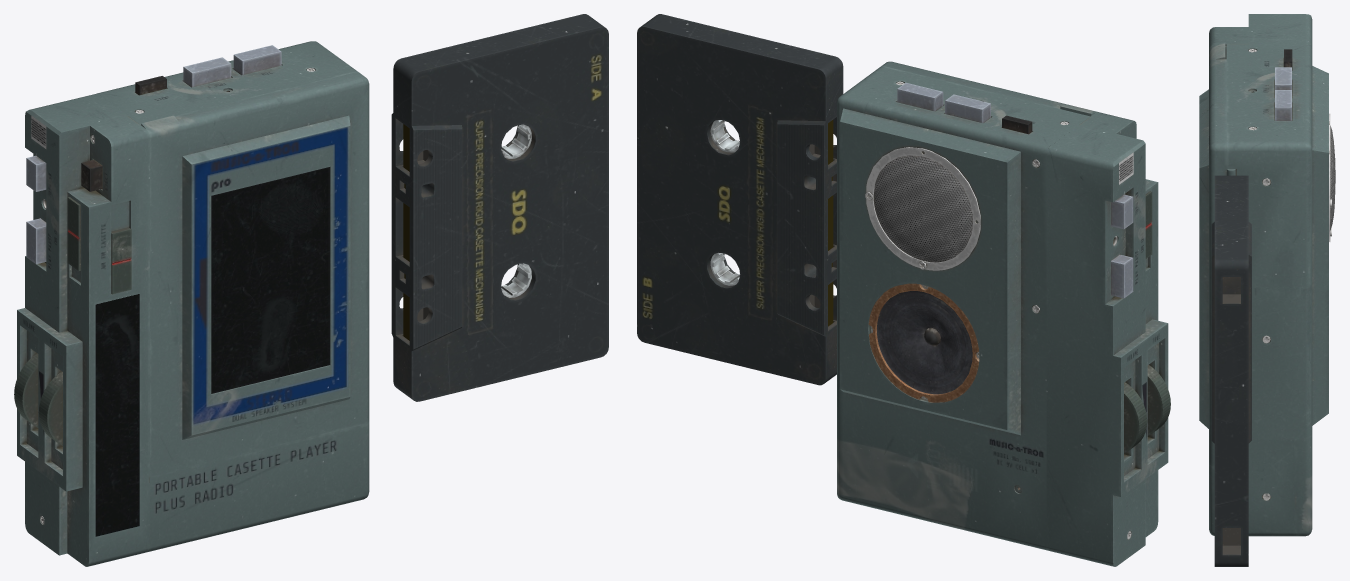
Rendered from portable_cassette_player.glb.
3 renders of one model, left to right at view 1: azimuth 30°, elevation 25°; view 2: azimuth 150°, elevation 25°; view 3: azimuth 270°, elevation 25°, orthographic. The views are drawn at different scales.
Parts seen in each view (by area): view 1: portable_cassette_player_lid; view 2: portable_cassette_player_lid; view 3: portable_cassette_player_lid.
Part boxes in pixels (x1=…): portable_cassette_player_lid: x1=14, y1=14, x2=608, y2=566; portable_cassette_player_lid: x1=637, y1=14, x2=1170, y2=566; portable_cassette_player_lid: x1=1199, y1=14, x2=1335, y2=566.
Size of the model in its own units: 0.1723 by 0.1303 by 0.0397.
Materials: 2 (2 with a texture image).
